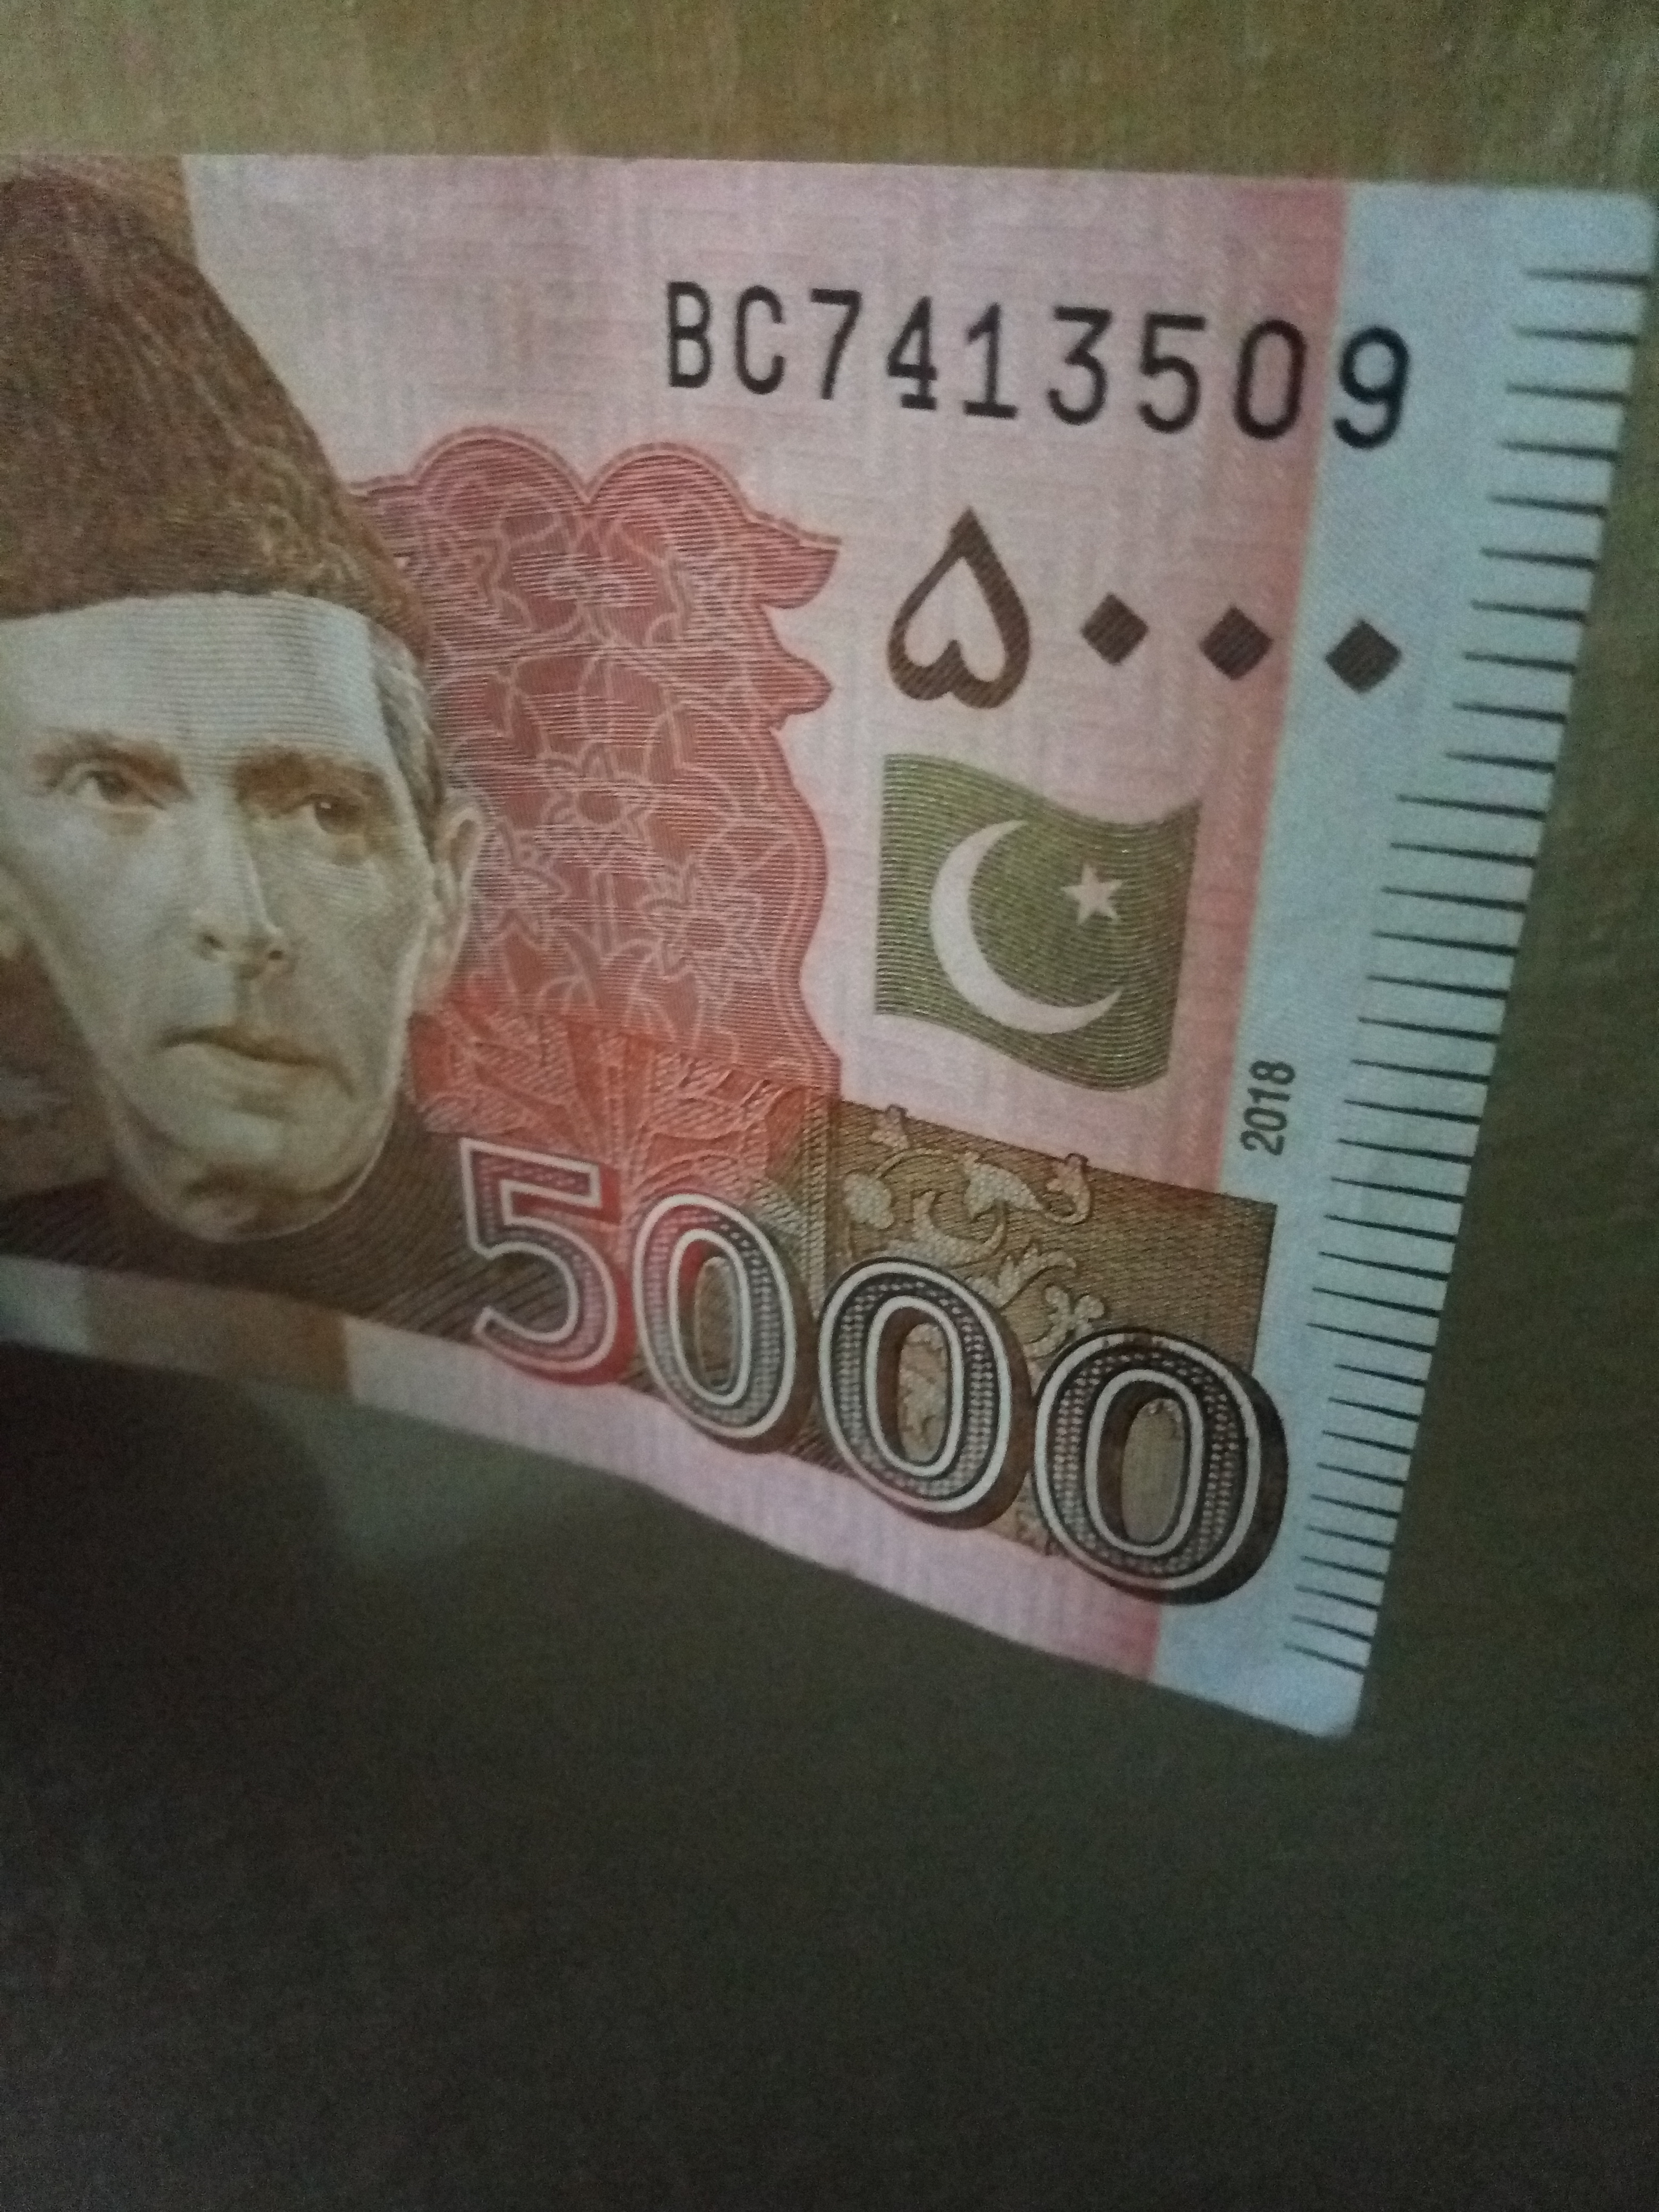5000 rupee: (35, 85, 1649, 1761)
